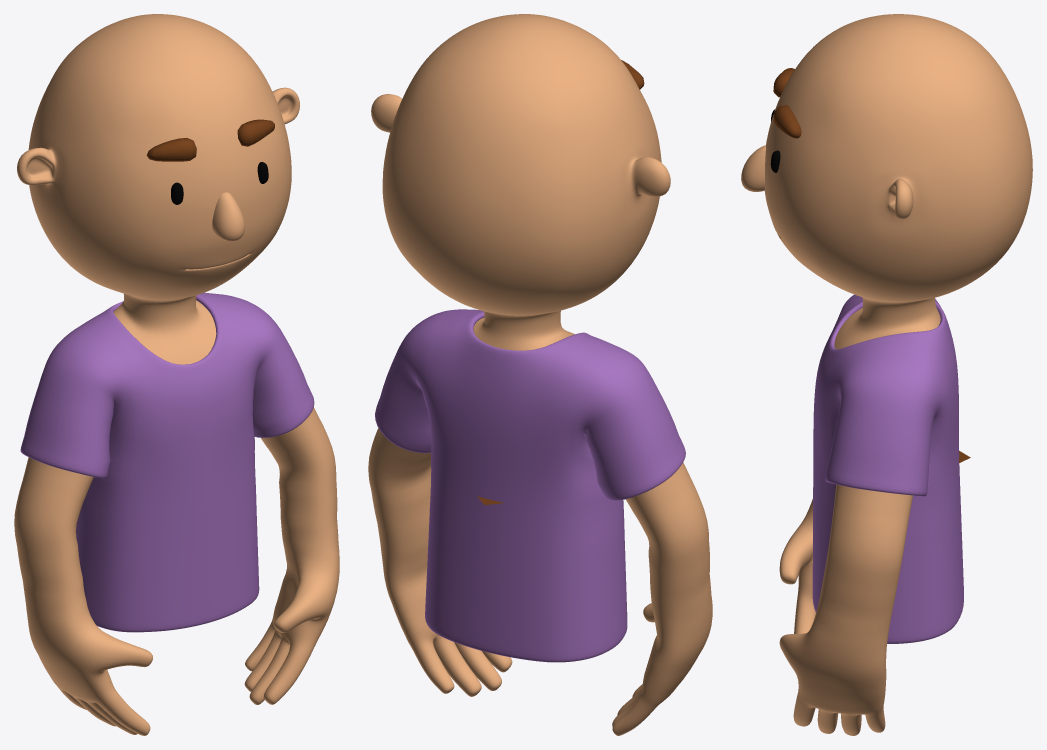
The picture shows the model from 3 angles, left to right: view 1: azimuth 30°, elevation 25°; view 2: azimuth 150°, elevation 25°; view 3: azimuth 270°, elevation 25°; orthographic projection. The views are drawn at different scales.
Visible parts, largest first — view 1: body, T-shirt, Eyebrow.007, nose; view 2: body, T-shirt; view 3: body, T-shirt, Eyebrow.007, nose.
Part boxes in pixels (x1,y1,x2,y2): body: (14, 14, 339, 735); T-shirt: (20, 292, 314, 632); Eyebrow.007: (146, 119, 274, 161); nose: (212, 192, 244, 241); body: (368, 14, 712, 735); T-shirt: (375, 309, 685, 662); body: (764, 14, 1032, 735); T-shirt: (812, 294, 963, 643); Eyebrow.007: (773, 68, 970, 462); nose: (741, 145, 765, 191).
Size of the model in its own units: 6.15 by 12.67 by 4.93.
